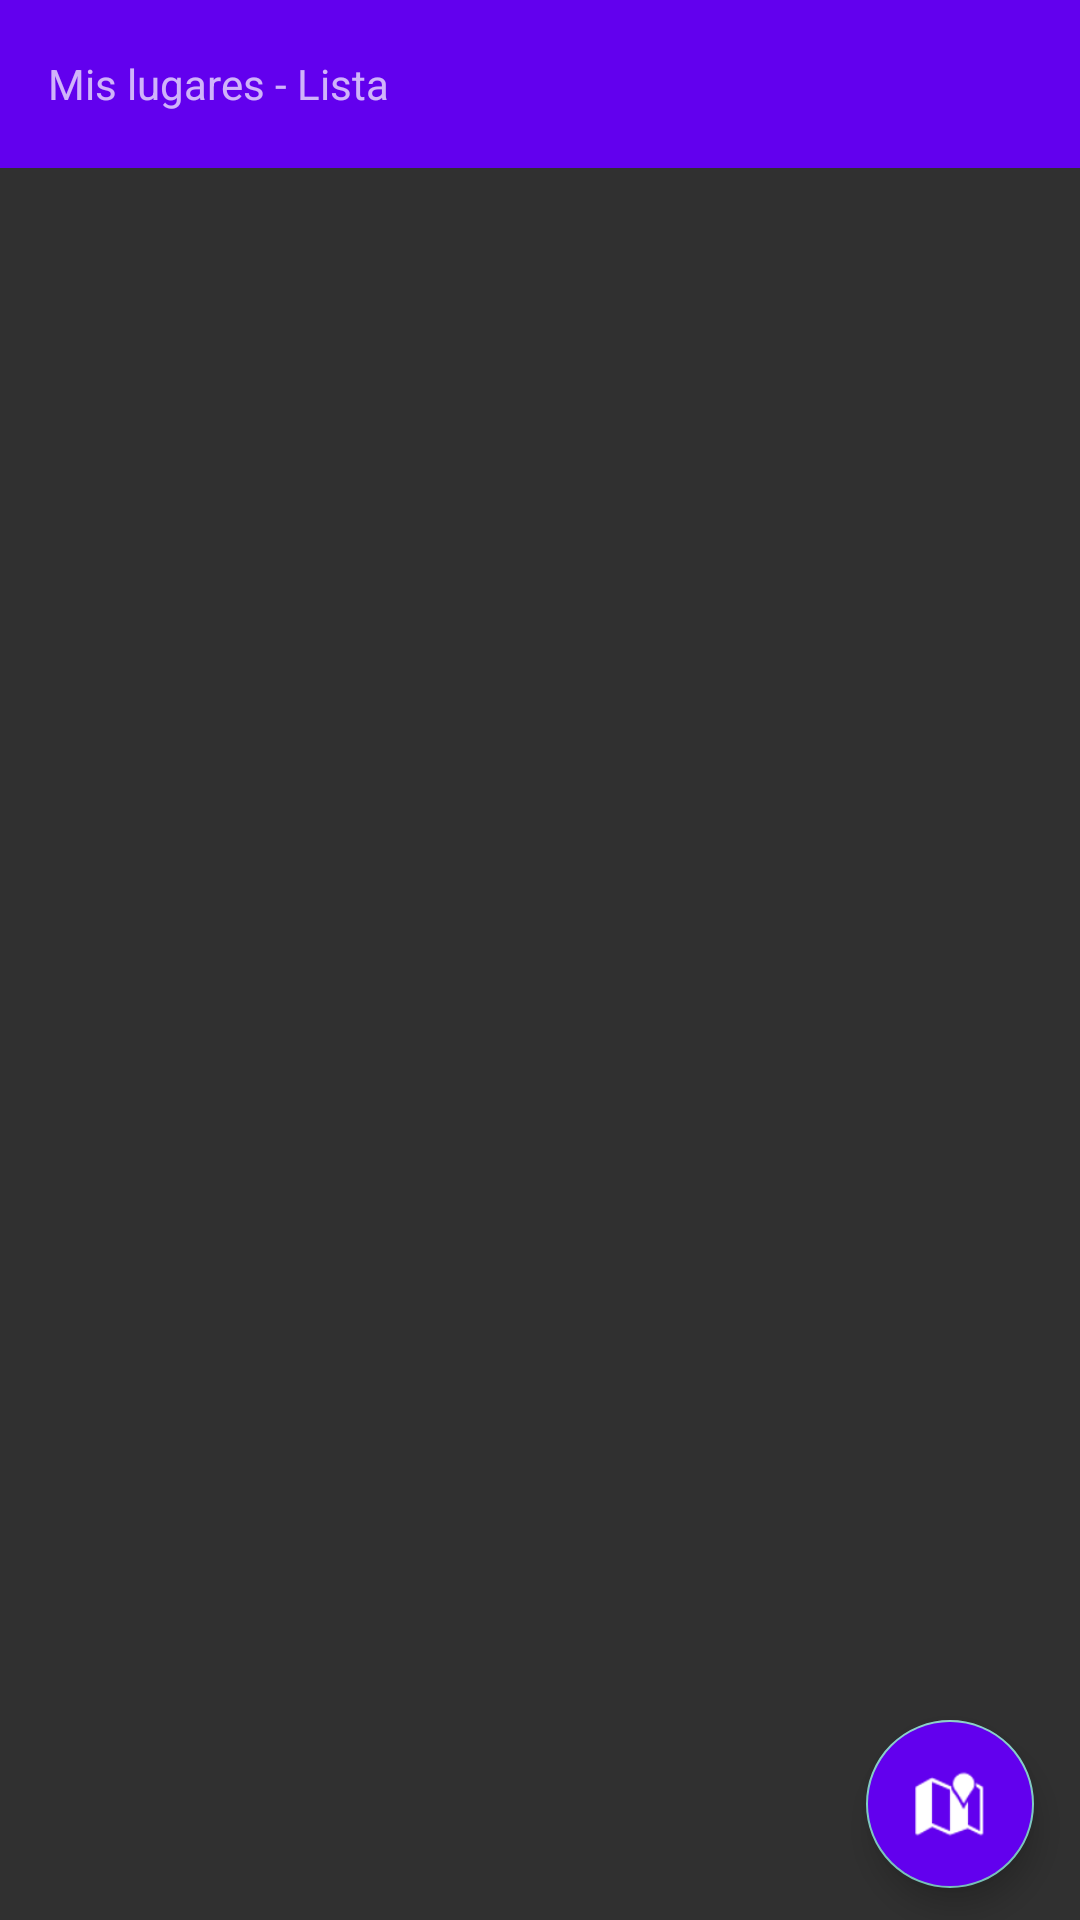

Named icons in this screenshot (1080*1920) and their centers, [x,y]:
map: [950,1804]
